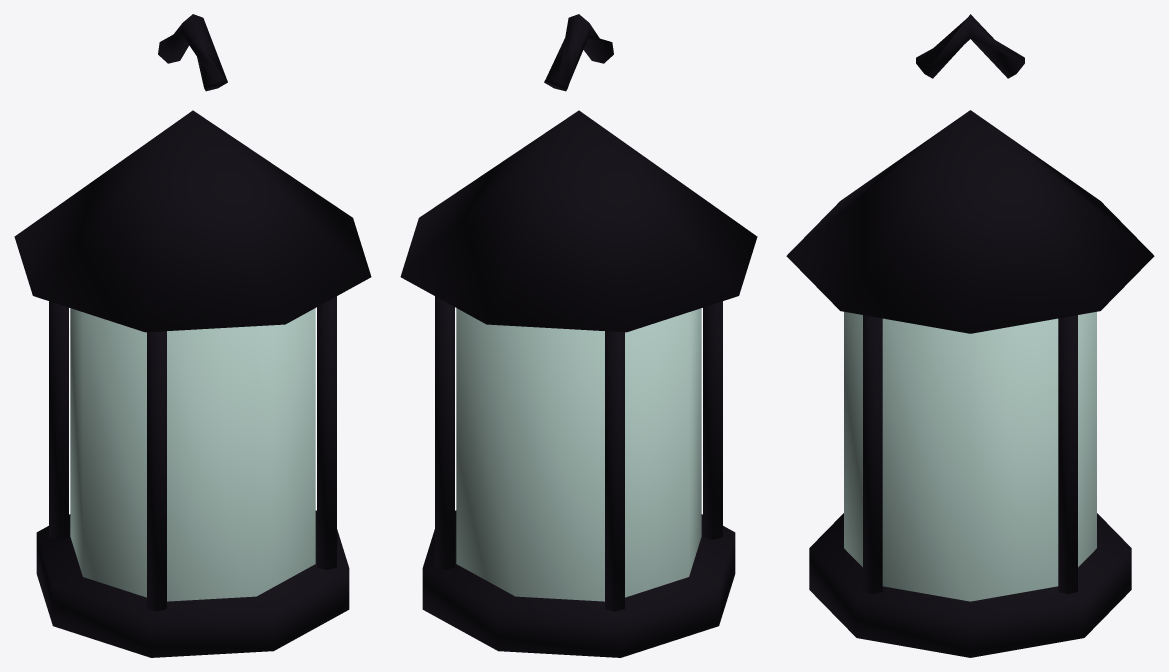
The model's file is lantern.obj.
3 renders of one model, left to right at view 1: azimuth 30°, elevation 25°; view 2: azimuth 150°, elevation 25°; view 3: azimuth 270°, elevation 25°, orthographic.
Parts seen in each view (by area): view 1: LH_lantern; view 2: LH_lantern; view 3: LH_lantern.
Boxes of the visible parts, x1,y1,x2,y2 form: LH_lantern: (14,14,371,657); LH_lantern: (400,14,757,657); LH_lantern: (786,14,1154,657).
Size of the model in its own units: 0.16 by 0.276 by 0.16.
